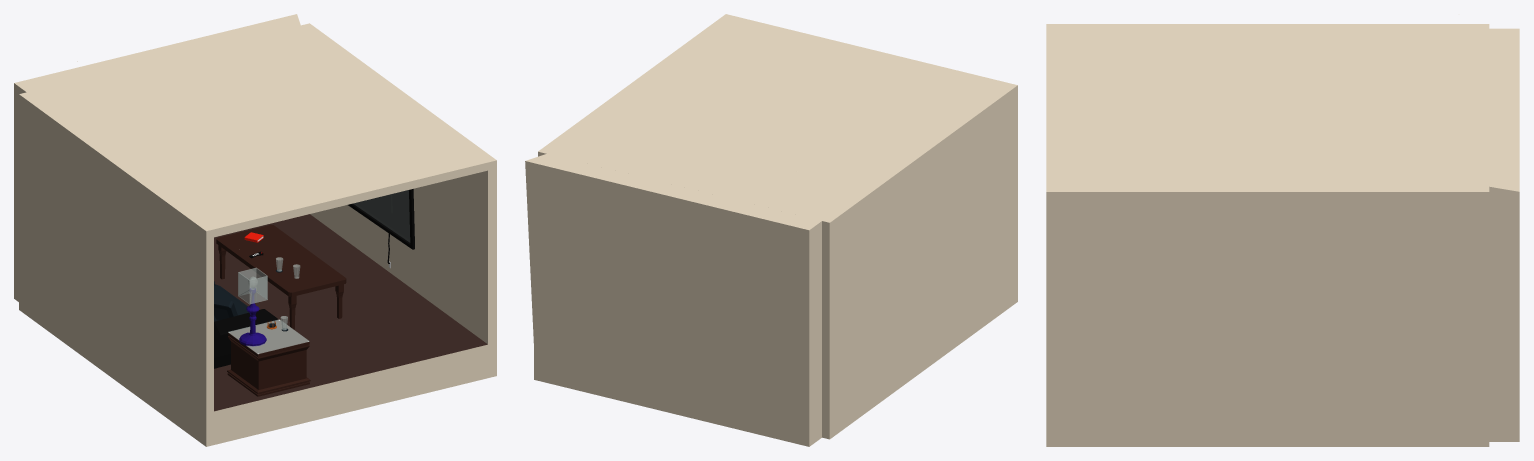
The model's file is family-room.obj.
The picture shows the model from 3 angles, left to right: view 1: azimuth 30°, elevation 25°; view 2: azimuth 150°, elevation 25°; view 3: azimuth 270°, elevation 25°; orthographic projection. The views are drawn at different scales.
Parts seen in each view (by area): view 1: group13, group13.3.2, group13.2.2, group20, group13.2.1, group23, group26, group24, group24.2, group17, group2.2; view 2: group13, group13.3.2; view 3: group13, group13.3.2.
Part boxes in pixels (bbox=[...]): group13: bbox=[14, 14, 496, 446]; group13.3.2: bbox=[27, 25, 487, 237]; group13.2.2: bbox=[214, 214, 487, 411]; group20: bbox=[216, 224, 346, 396]; group13.2.1: bbox=[214, 344, 487, 444]; group23: bbox=[214, 189, 414, 368]; group26: bbox=[353, 190, 409, 242]; group24: bbox=[228, 257, 309, 353]; group24.2: bbox=[238, 267, 267, 304]; group17: bbox=[214, 281, 288, 331]; group2.2: bbox=[239, 288, 266, 346]; group13: bbox=[525, 14, 1017, 446]; group13.3.2: bbox=[547, 16, 1009, 220]; group13: bbox=[1046, 24, 1519, 446]; group13.3.2: bbox=[1046, 28, 1489, 186].
Size of the model in its own units: 2.64 by 2.14 by 3.15.
